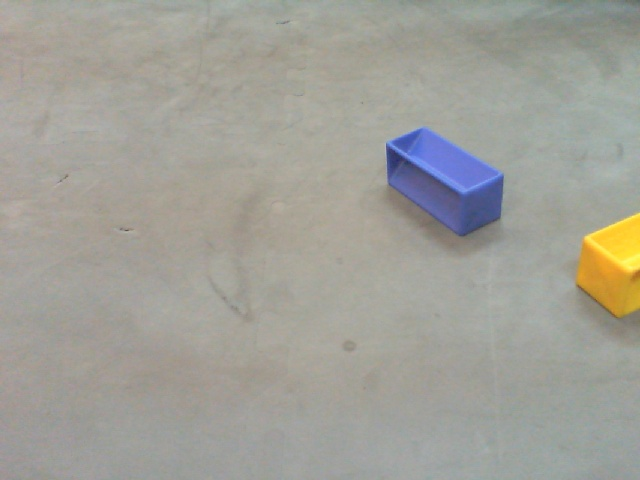BlueSample: (381, 124, 507, 238)
YellowSample: (575, 202, 640, 321)
